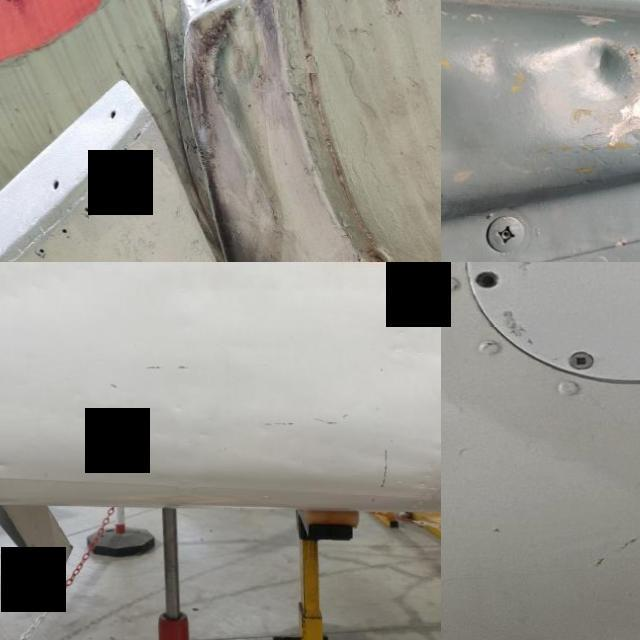Dent: (155, 0, 292, 147), (527, 10, 640, 127), (188, 430, 215, 442), (164, 401, 182, 414), (0, 456, 13, 474)
Missing_Fastener: (472, 268, 501, 290)
